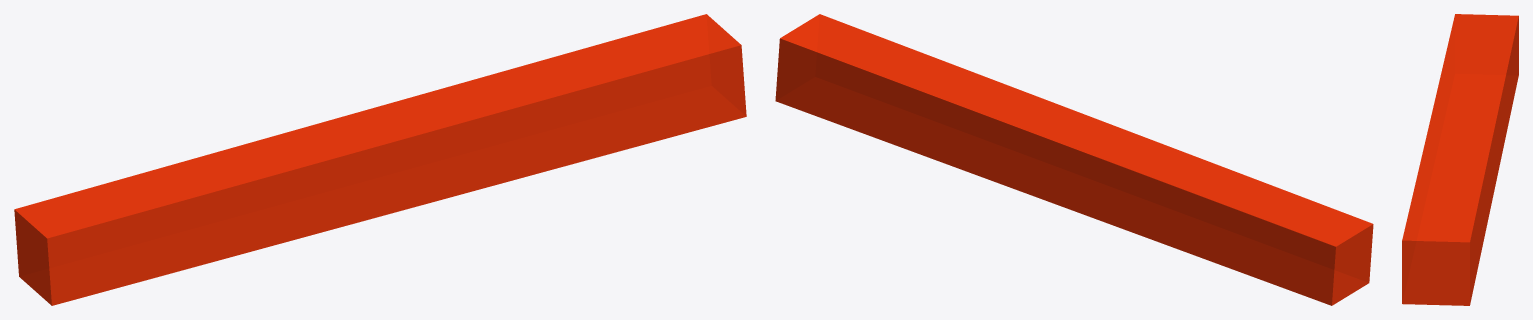
The model's file is Event_420107950_EErechit_44.fbx.
3 renders of one model, left to right at view 1: azimuth 30°, elevation 25°; view 2: azimuth 150°, elevation 25°; view 3: azimuth 270°, elevation 25°, orthographic. The views are drawn at different scales.
Visible parts, largest first — view 1: Model; view 2: Model; view 3: Model.
Part boxes in pixels (x1,y1,x2,y2): Model: (14, 14, 746, 305); Model: (775, 14, 1373, 305); Model: (1402, 14, 1518, 305).
Bounding box in the file's own units: 0.7436 × 0.1305 × 0.1325.
